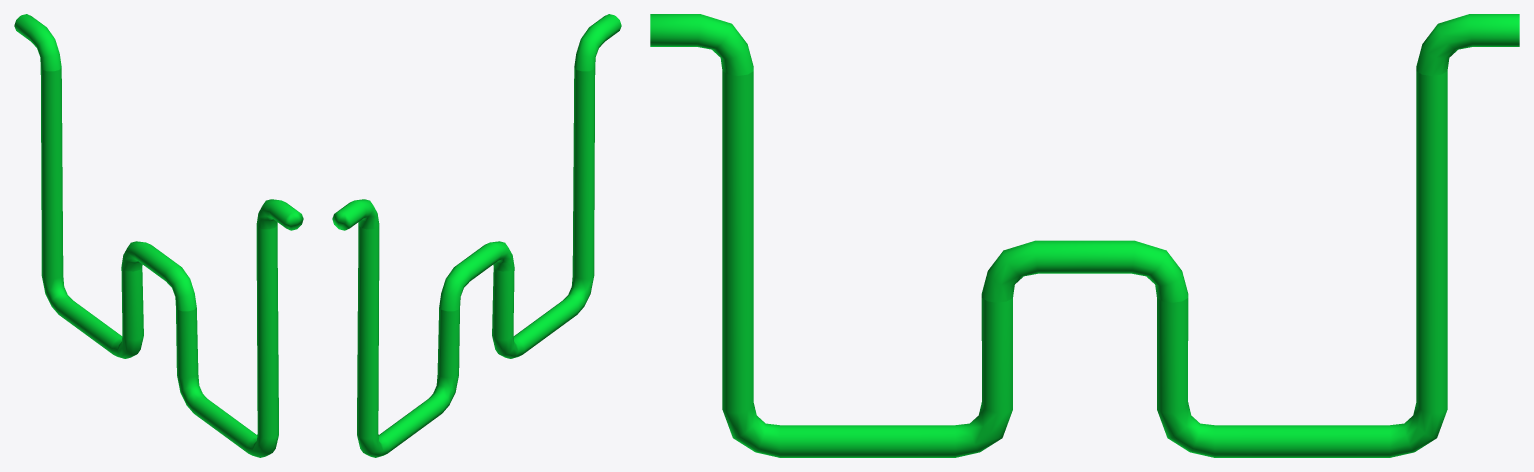
The model's file is Gate.fbx.
3 views of the same model, side by side, from view 1: azimuth 30°, elevation 25°; view 2: azimuth 150°, elevation 25°; view 3: azimuth 270°, elevation 25° (orthographic). The views are drawn at different scales.
Visible parts, largest first — view 1: Gate; view 2: Gate; view 3: Gate.
Part boxes in pixels (box(x1,y1,x2,y2)): Gate: box(14, 14, 303, 457); Gate: box(332, 14, 621, 457); Gate: box(650, 14, 1519, 457).
Bounding box in the file's own units: 0.1864 × 2.35 × 4.22.
